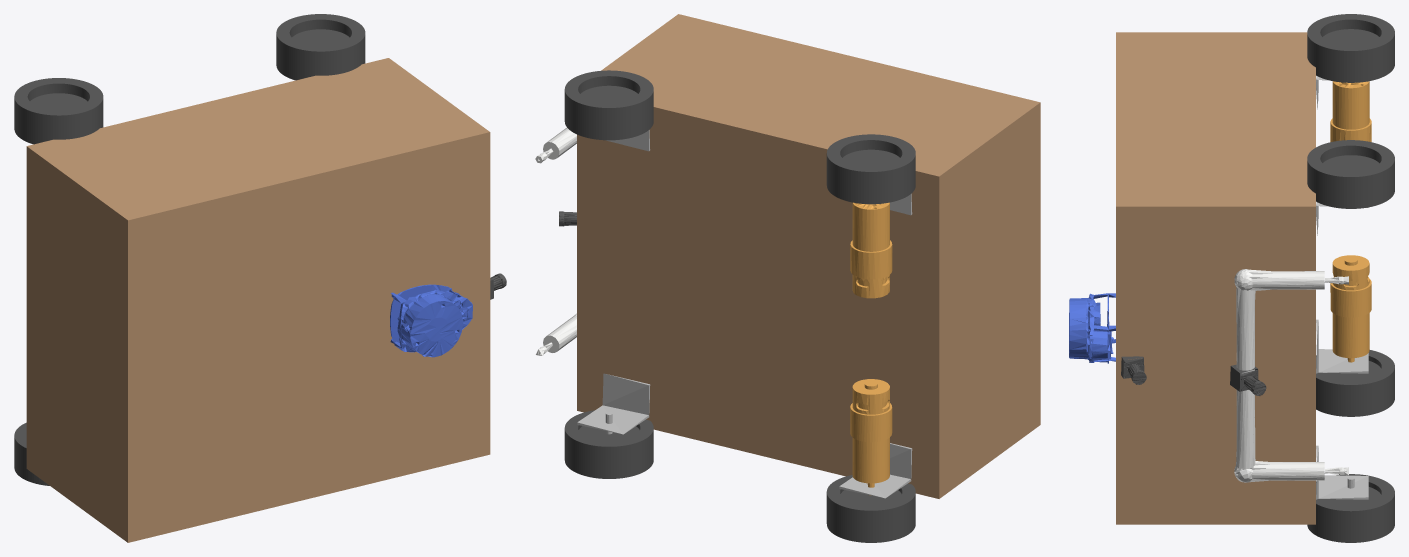
File: agridoc.glb
The picture shows the model from 3 angles, left to right: view 1: azimuth 30°, elevation 25°; view 2: azimuth 150°, elevation 25°; view 3: azimuth 270°, elevation 25°; orthographic projection.
Parts seen in each view (by area): view 1: body_m0, wheel_rl_m0, wheel_fl_m0, body_m5, wheel_rr_m0; view 2: body_m0, body_m3, wheel_fl_m0, wheel_rl_m0, body_m2, wheel_rr_m0, wheel_fr_m0, body_m1; view 3: body_m0, body_m1, body_m3, wheel_rl_m0, wheel_fl_m0, wheel_fr_m0, wheel_rr_m0, body_m5, body_m2, body_m6.
Part boxes in pixels (x1,y1,x2,y2): body_m0: (26,58,490,542); wheel_rl_m0: (14,78,103,144); wheel_fl_m0: (276,14,365,80); body_m5: (390,284,472,357); wheel_rr_m0: (14,422,49,485); body_m0: (577,14,1040,498); body_m3: (850,202,892,495); wheel_fl_m0: (564,70,653,140); wheel_rl_m0: (826,134,915,204); body_m2: (577,130,912,498); wheel_rr_m0: (826,475,915,542); wheel_fr_m0: (564,410,653,478); body_m1: (535,127,576,355); body_m0: (1116,32,1315,524); body_m1: (1234,269,1348,482); body_m3: (1330,81,1371,362); wheel_rl_m0: (1307,14,1394,82); wheel_fl_m0: (1307,140,1394,208); wheel_fr_m0: (1307,474,1394,542); wheel_rr_m0: (1316,350,1394,416); body_m5: (1069,293,1115,363); body_m2: (1316,76,1368,499); body_m6: (1121,356,1266,395).
Bounding box in the file's own units: 0.5342 × 0.46 × 0.3715.
